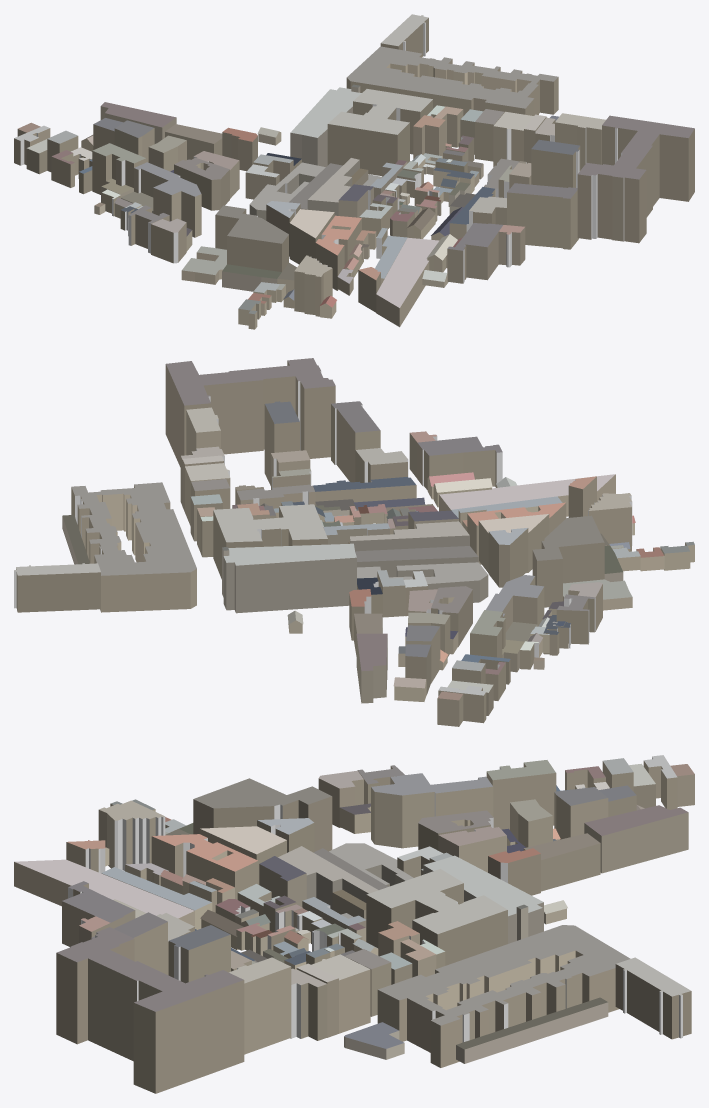
3 renders of one model, top to bottom at view 1: azimuth 30°, elevation 25°; view 2: azimuth 150°, elevation 25°; view 3: azimuth 270°, elevation 25°, orthographic. The views are drawn at different scales.
Visible parts, largest first — view 1: tuile; view 2: tuile; view 3: tuile.
Part boxes in pixels (x1,y1,x2,y2): tuile: (14, 14, 694, 329); tuile: (14, 358, 694, 726); tuile: (14, 755, 694, 1093).
Size of the model in its own units: 290 by 44.04 by 275.
